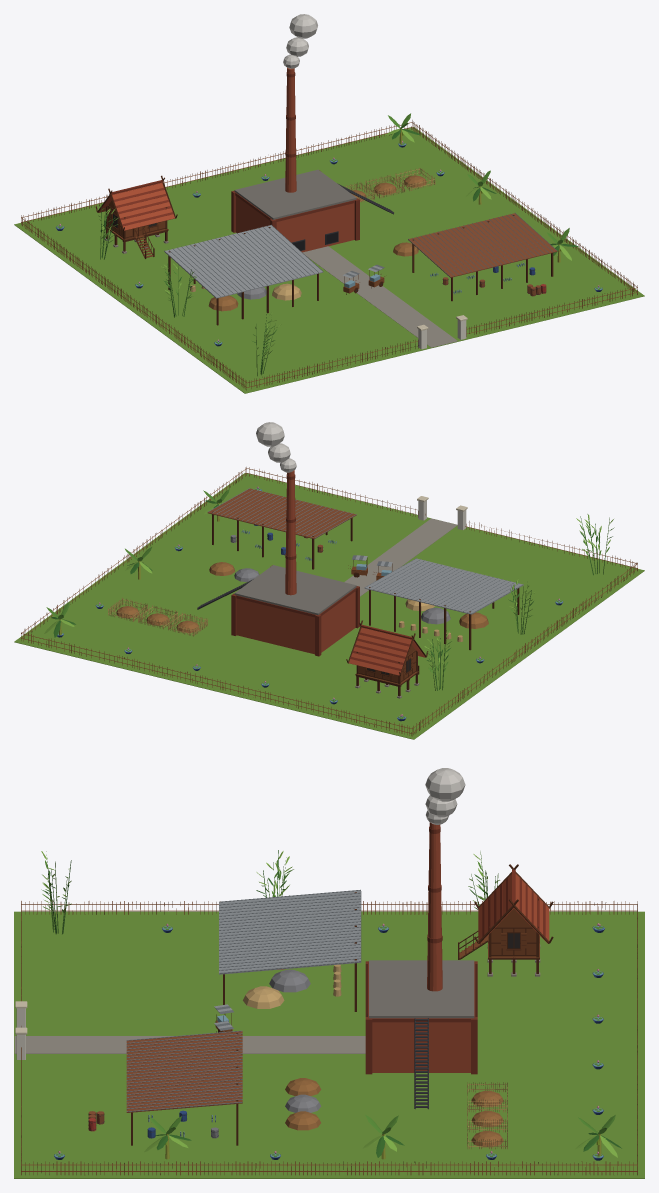
Rendered from waste.glb.
The picture shows the model from 3 angles, top to bottom: view 1: azimuth 30°, elevation 25°; view 2: azimuth 150°, elevation 25°; view 3: azimuth 270°, elevation 25°; orthographic projection. The views are drawn at different scales.
Visible parts, largest first — view 1: body; view 2: body; view 3: body.
Part boxes in pixels (x1=…): body: x1=14, y1=14, x2=644, y2=393; body: x1=14, y1=422, x2=644, y2=739; body: x1=14, y1=768, x2=644, y2=1178.
Bounding box in the file's own units: 47.9 × 24.04 × 47.9.
